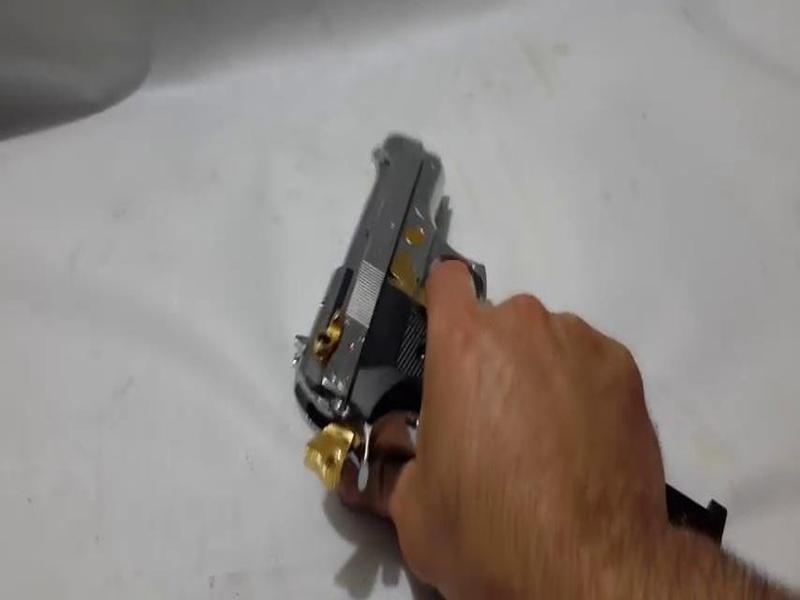Pistola: (255, 114, 533, 485)
